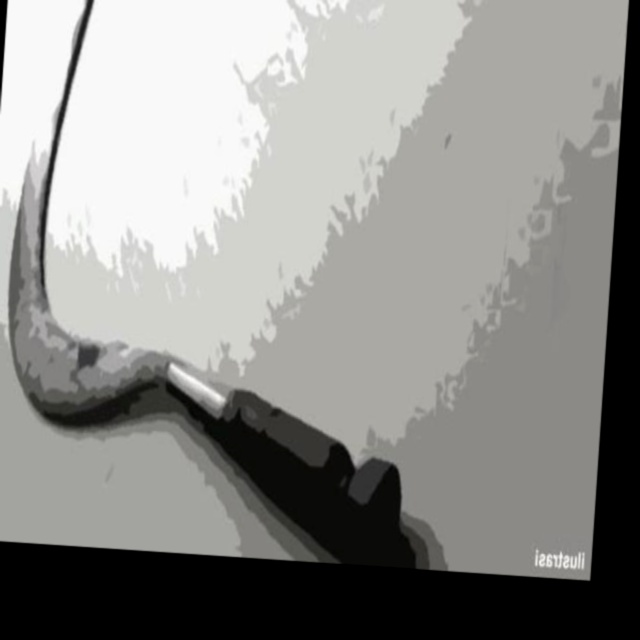Sharp-Object: (0, 0, 441, 550)
